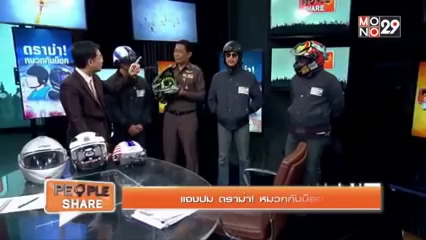helmet: (10, 130, 66, 176), (70, 125, 107, 169), (289, 36, 328, 76), (218, 35, 246, 73), (149, 69, 180, 94), (112, 138, 143, 161), (109, 40, 138, 63)
